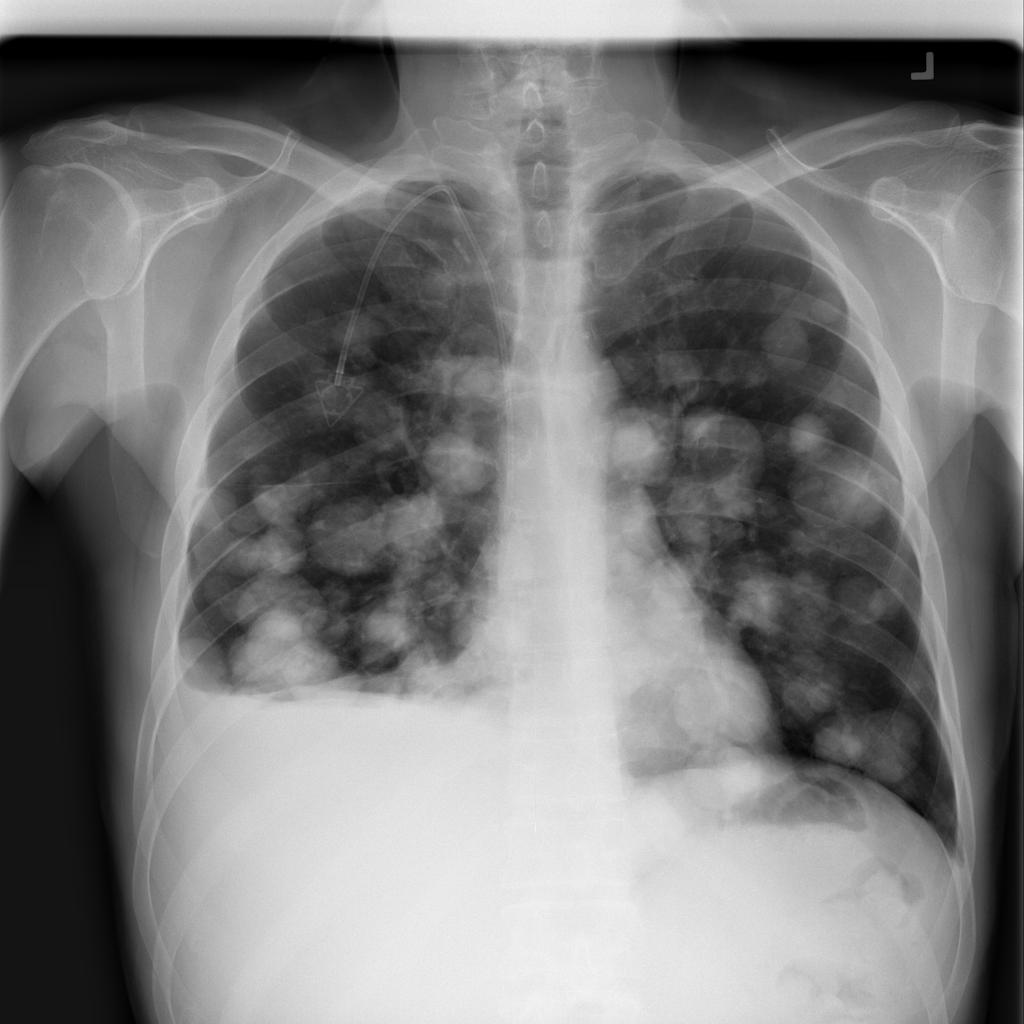nodule: (223, 571, 355, 700), (813, 694, 935, 815), (663, 474, 764, 553), (600, 408, 678, 487), (417, 424, 498, 500), (636, 553, 712, 634), (806, 461, 888, 536), (312, 503, 392, 579), (723, 555, 798, 636), (377, 487, 457, 562), (234, 471, 322, 539), (667, 670, 754, 738), (344, 384, 420, 459), (262, 441, 342, 509), (324, 301, 396, 376), (393, 638, 474, 704), (704, 740, 786, 805), (222, 522, 310, 582), (748, 312, 821, 384), (468, 598, 541, 670), (837, 569, 915, 636), (771, 654, 851, 719), (347, 595, 428, 659), (643, 325, 713, 399), (678, 402, 749, 472), (476, 524, 547, 593), (874, 645, 946, 713), (774, 399, 843, 466), (615, 493, 664, 544), (416, 569, 467, 618), (757, 261, 810, 307), (804, 282, 854, 330)
